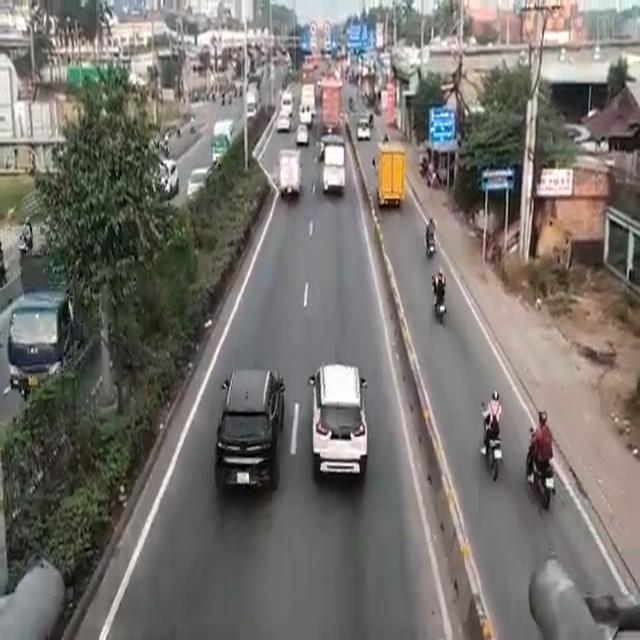car: (218, 366, 278, 498), (310, 366, 366, 479)
motorbike: (529, 418, 559, 520), (477, 386, 503, 480), (422, 214, 438, 260), (432, 276, 448, 320)
truck: (6, 249, 76, 385), (317, 131, 351, 202), (317, 81, 345, 130), (279, 143, 301, 204)
